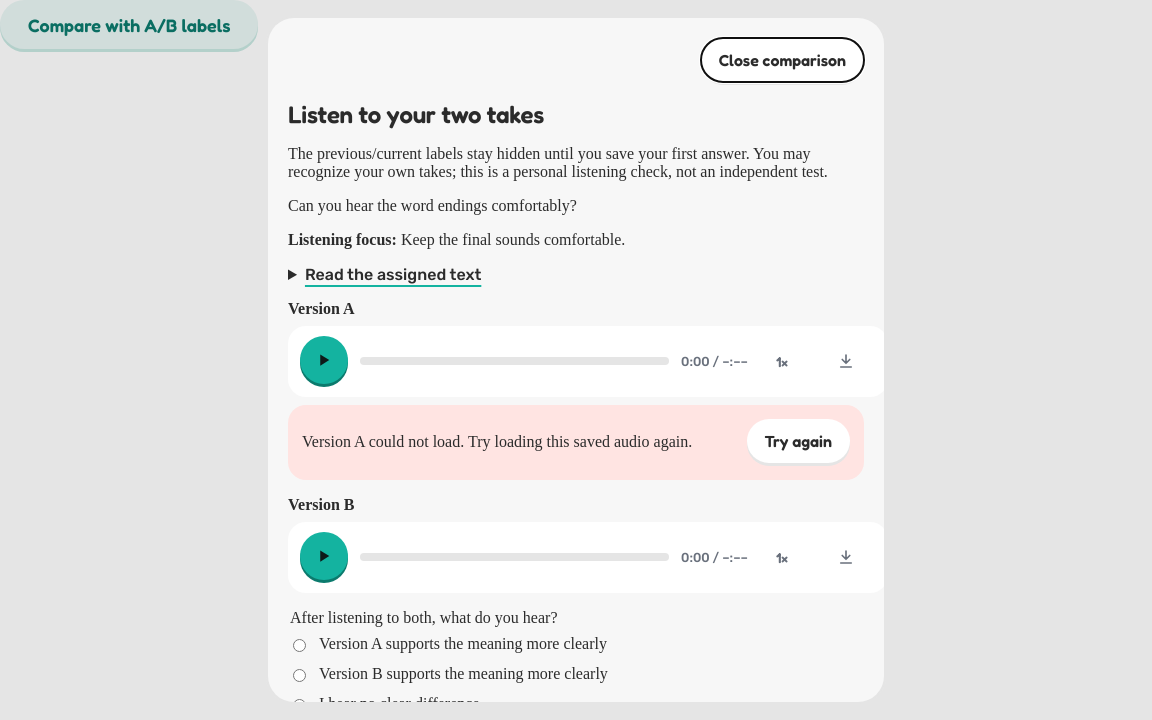
Scenario: failed private audio can be reloaded without recreating the comparison or choosing an answer
Earlier steps of the test are not shown.
Expected: the text "Version A could not load. Try loading this saved audio again." is shown, [302,433,692,451]
Step 1. Click the button "Try again" → {"x": 798, "y": 441}, box [747,419,850,463]
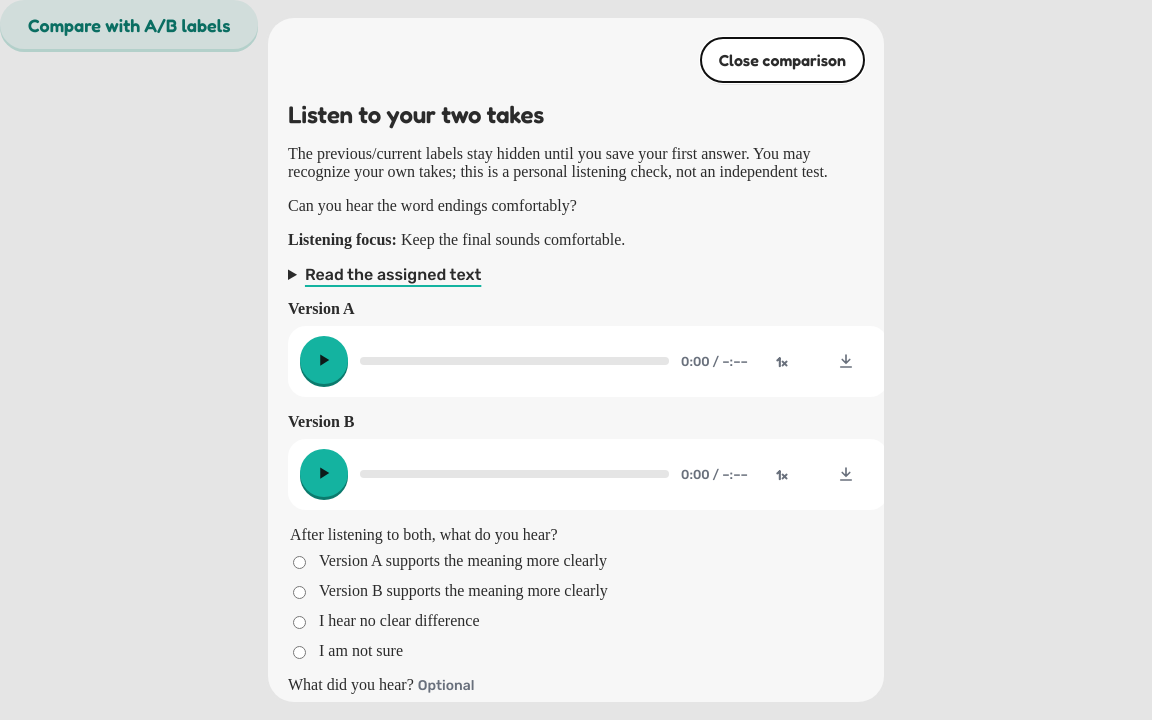
Expected: the text "Version A could not load. Try loading this saved audio again." is gone
